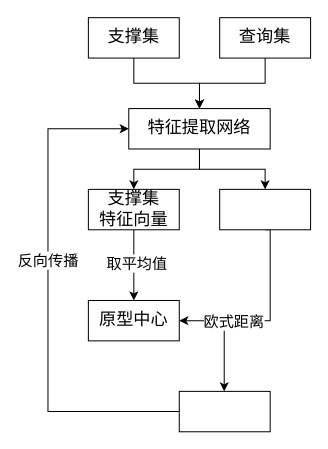
The diagram is 328 pixels wide and 449 high, and some of its shapes have lost their labels. The box of each missing label's shape, as (x1, y1, x2, y2) in pixels:
损失函数: (178, 390, 270, 432)
查询集 特征向量: (219, 188, 311, 230)
